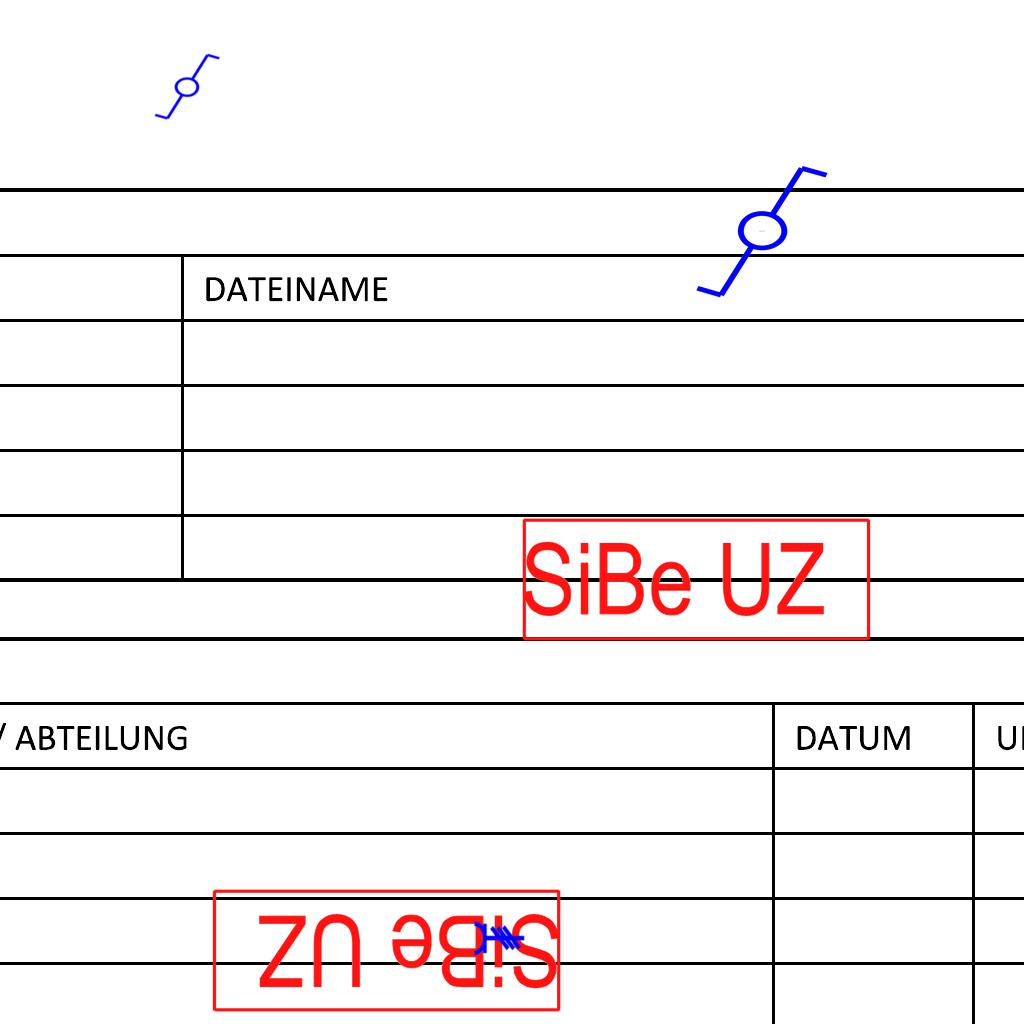CEE_Drehstrom_Steckdose_16_32_A: (473, 920, 525, 965)
Wechselschalter: (692, 161, 849, 305), (144, 50, 222, 122)
Zentrale_Sicherheitsbeleuchtung: (519, 515, 876, 645), (207, 885, 564, 1015)
